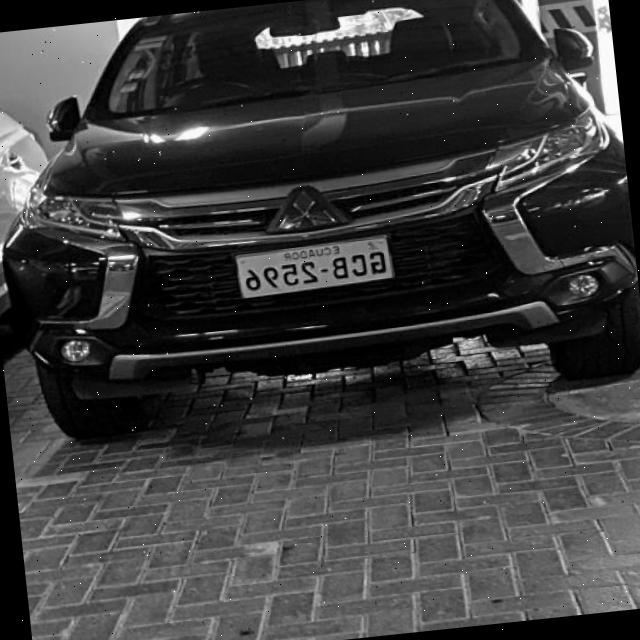Placa: (239, 235, 393, 297)
